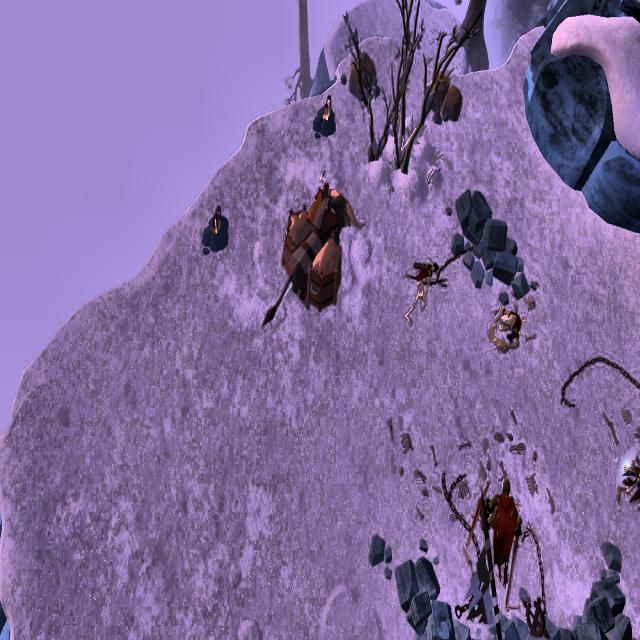enemy_factionUndead: (471, 474, 520, 585), (402, 256, 443, 326), (486, 301, 522, 362), (614, 458, 640, 512)
